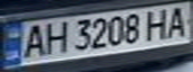0: (106, 12, 127, 47)
2: (90, 15, 112, 51)
3: (69, 16, 93, 52)
8: (121, 11, 145, 45)
A: (160, 3, 193, 39), (18, 21, 48, 60)
H: (39, 19, 69, 56), (142, 7, 172, 42)
